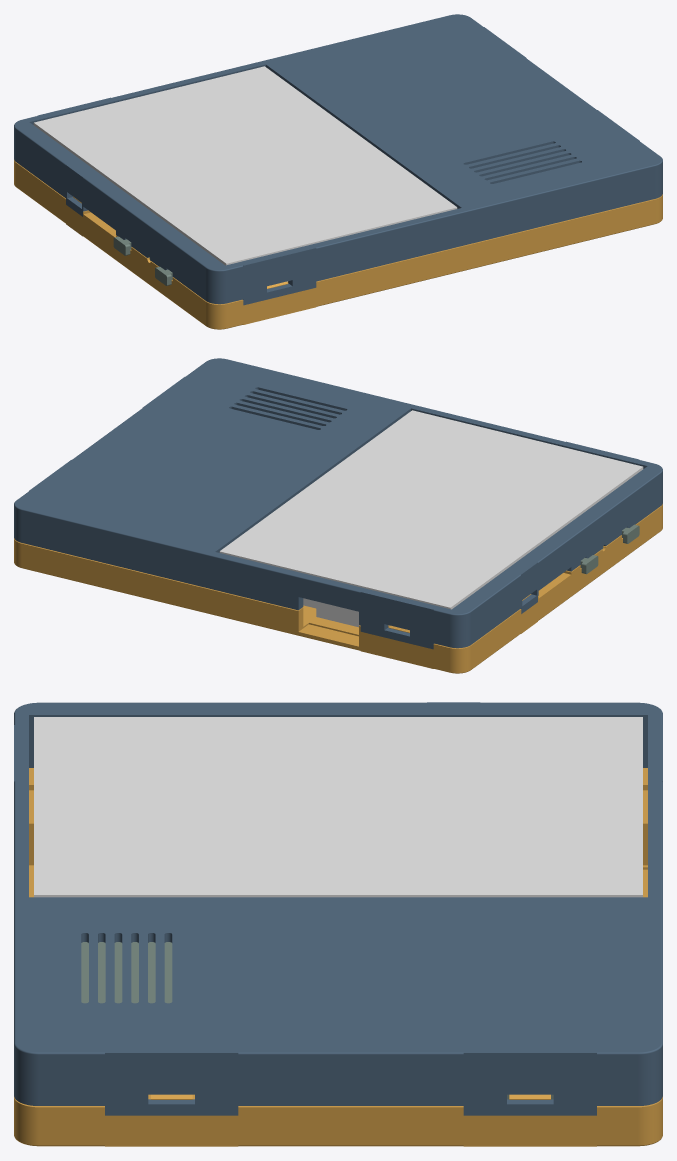
File: assembly_light.glb
3 views of the same model, one above another, from view 1: azimuth 30°, elevation 25°; view 2: azimuth 150°, elevation 25°; view 3: azimuth 270°, elevation 25° (orthographic). The views are drawn at different scales.
Parts seen in each view (by area): view 1: front_T0_E, DISPLAY_REFERENCE_ENVELOPE, rear_T0_E; view 2: front_T0_E, DISPLAY_REFERENCE_ENVELOPE, rear_T0_E; view 3: front_T0_E, DISPLAY_REFERENCE_ENVELOPE, rear_T0_E, speaker_UNVERIFIED.
Boxes of the visible parts, box(x1,y1,x2,y2) form: front_T0_E: box(14, 14, 662, 305); DISPLAY_REFERENCE_ENVELOPE: box(33, 66, 457, 281); rear_T0_E: box(14, 160, 662, 329); front_T0_E: box(14, 358, 662, 649); DISPLAY_REFERENCE_ENVELOPE: box(219, 410, 643, 625); rear_T0_E: box(14, 504, 662, 673); front_T0_E: box(14, 702, 662, 1115); DISPLAY_REFERENCE_ENVELOPE: box(34, 717, 642, 897); rear_T0_E: box(14, 768, 662, 1146); speaker_UNVERIFIED: box(81, 942, 172, 1003).
Bounding box in the file's own units: 0.1015 × 0.0124 × 0.0779.
